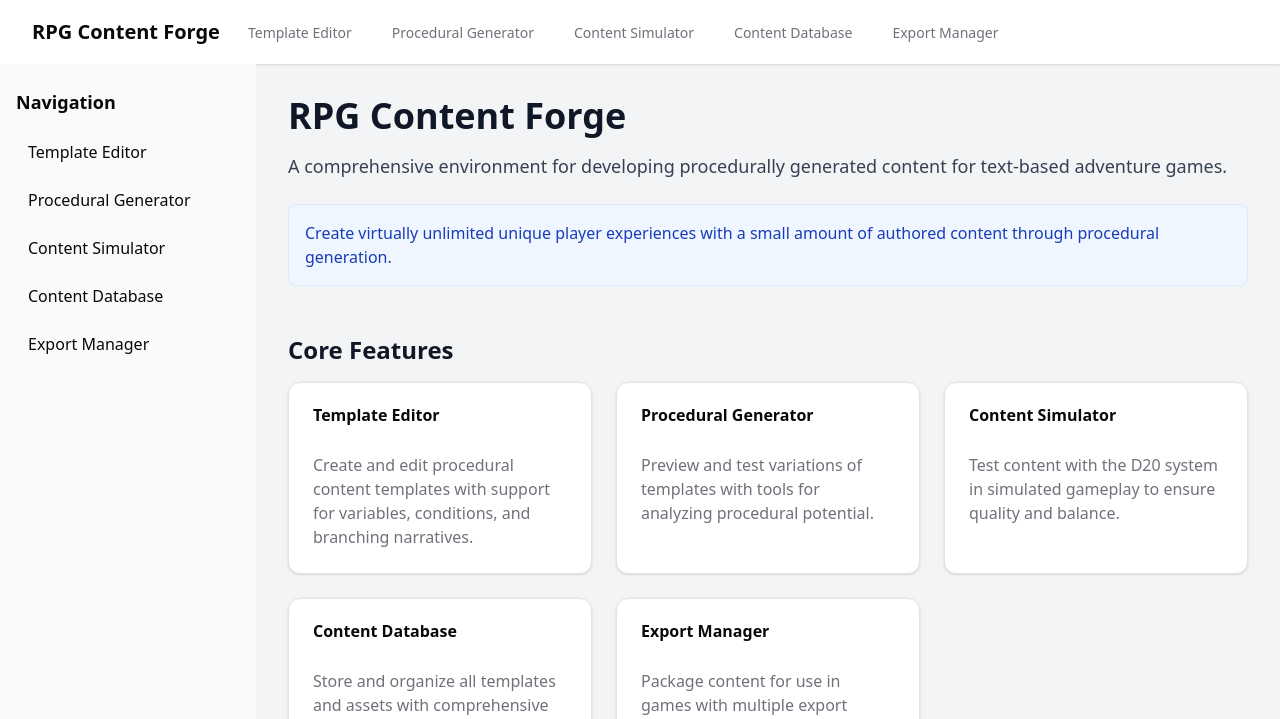
Test: Home Page › navigates to Procedural Generator page
Click on the Procedural Generator card
Click the 1st link "Procedural Generator" at (463, 33), box [392,23,534,42]
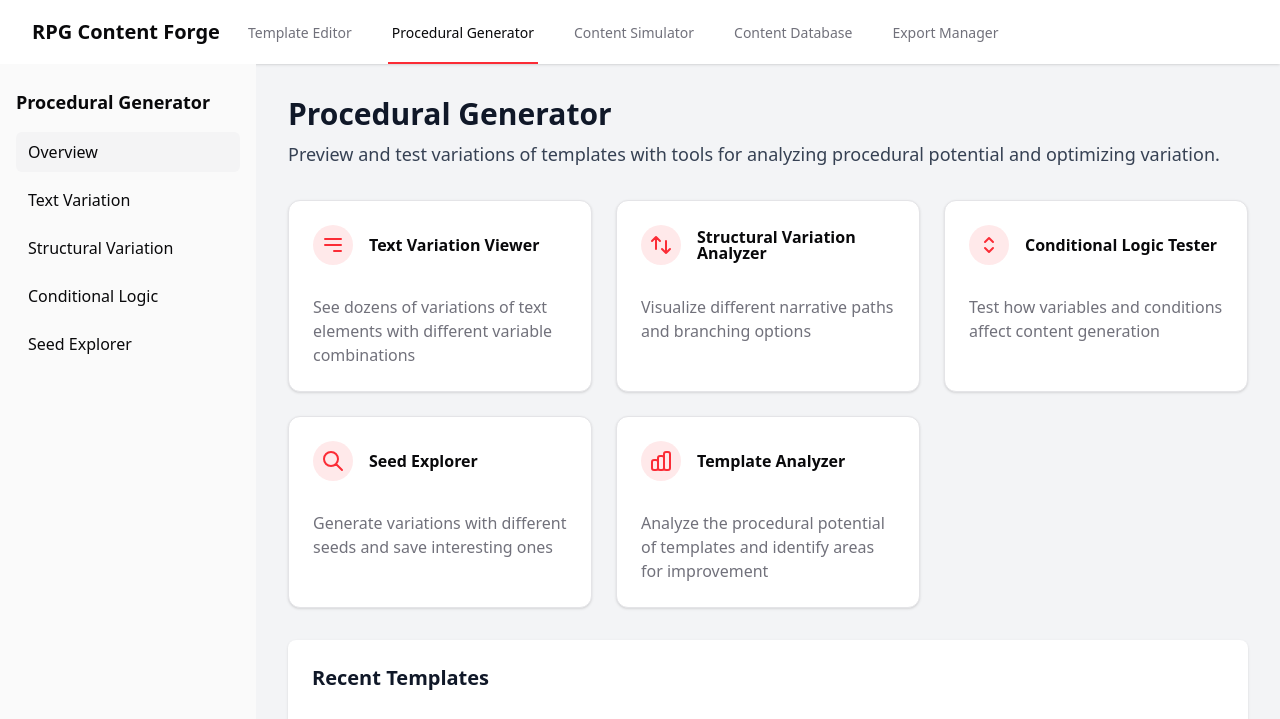
Expected: the 2nd heading "Procedural Generator" is shown, [288,93,612,134]
